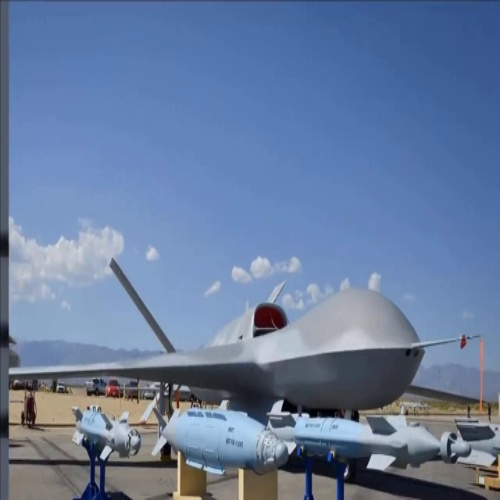uav: (12, 249, 485, 415)
